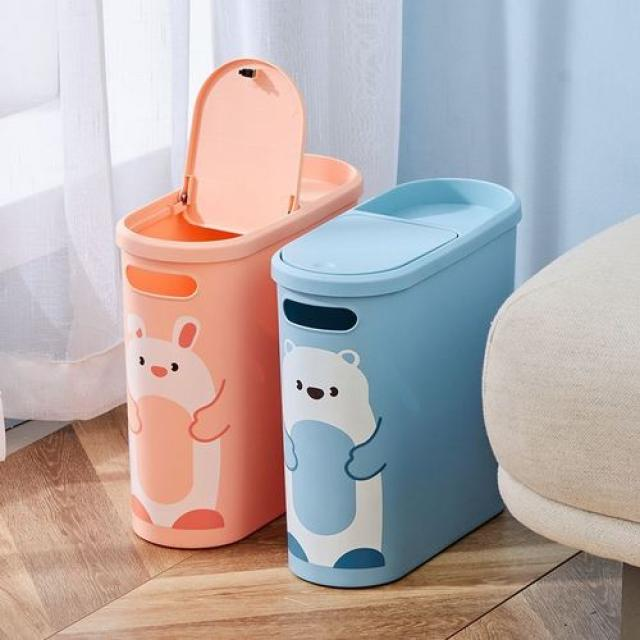dustbin: (115, 55, 365, 555), (282, 174, 528, 594)
